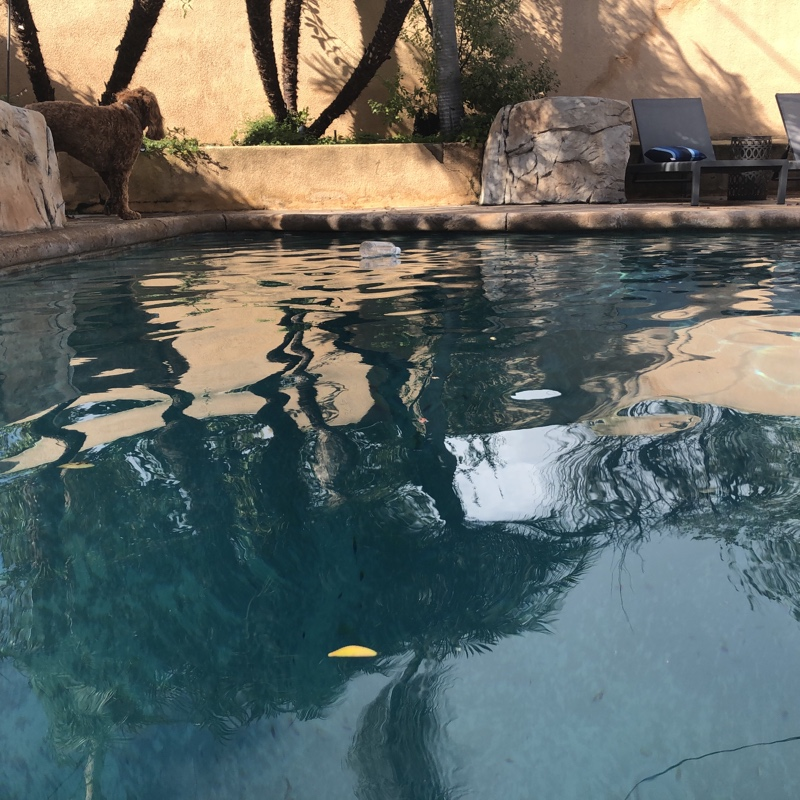Plastic Bottle: (357, 235, 404, 262)
